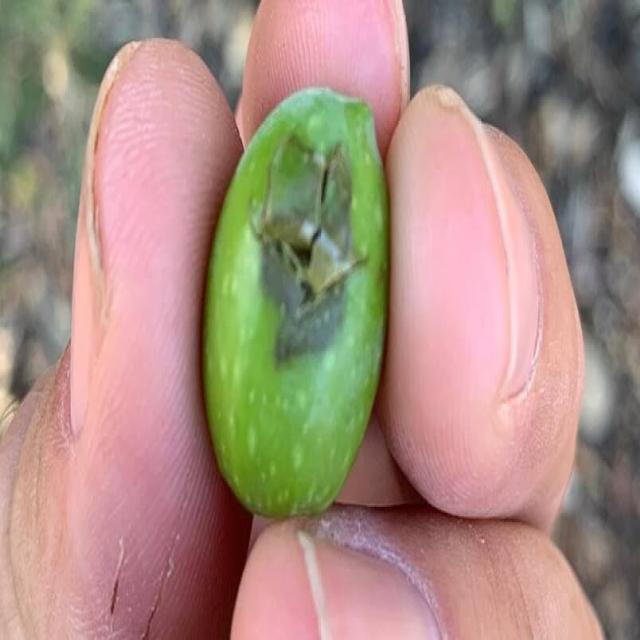Anthracnose: (203, 88, 388, 514)
